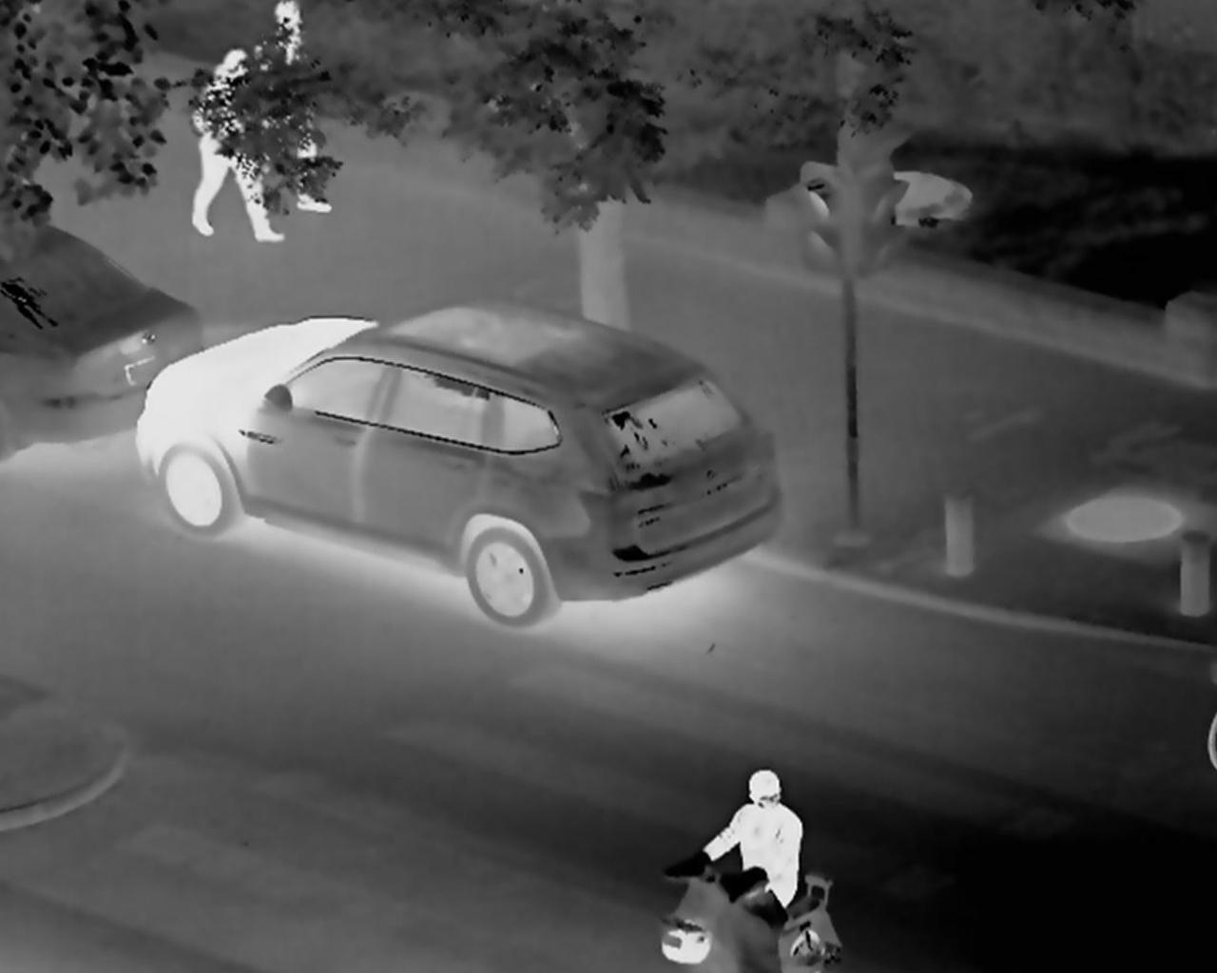person: (176, 27, 282, 248), (705, 750, 810, 922)
